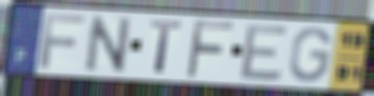E: (237, 23, 291, 82)
F: (183, 17, 236, 81), (37, 12, 88, 70)
G: (287, 25, 333, 85)
N: (84, 13, 133, 74)
T: (147, 18, 185, 75)
